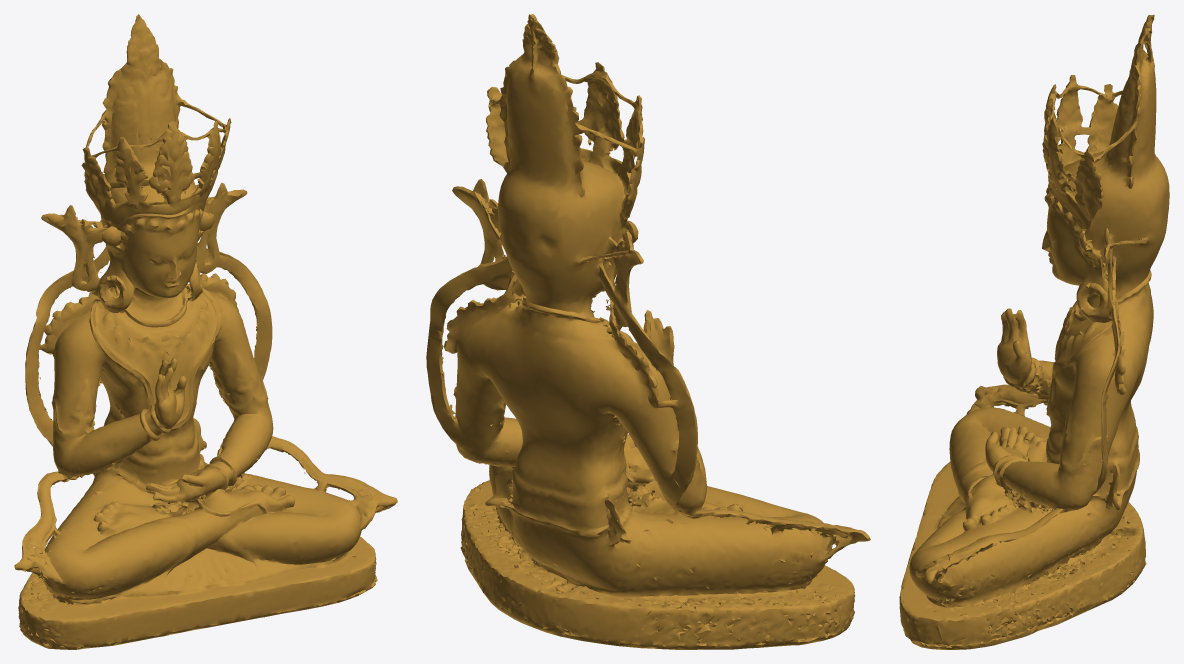
Rendered from tibetan-buddha.glb.
3 renders of one model, left to right at view 1: azimuth 30°, elevation 25°; view 2: azimuth 150°, elevation 25°; view 3: azimuth 270°, elevation 25°, orthographic. The views are drawn at different scales.
Visible parts, largest first — view 1: Object_2, Object_3; view 2: Object_2, Object_3; view 3: Object_2, Object_3.
Boxes of the visible parts, bbox=[...] form: Object_2: bbox=[14, 14, 397, 649]; Object_3: bbox=[82, 100, 230, 164]; Object_2: bbox=[426, 14, 870, 649]; Object_3: bbox=[487, 66, 644, 148]; Object_2: bbox=[899, 14, 1169, 649]; Object_3: bbox=[1044, 75, 1153, 161].
Size of the model in its own units: 0.3112 by 0.4366 by 0.187.
